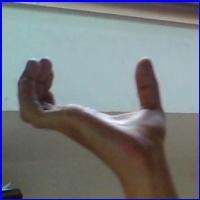B: (13, 46, 178, 173)
